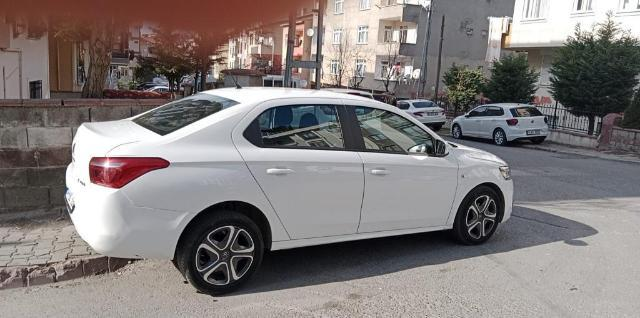scratch: (132, 253, 142, 257)
